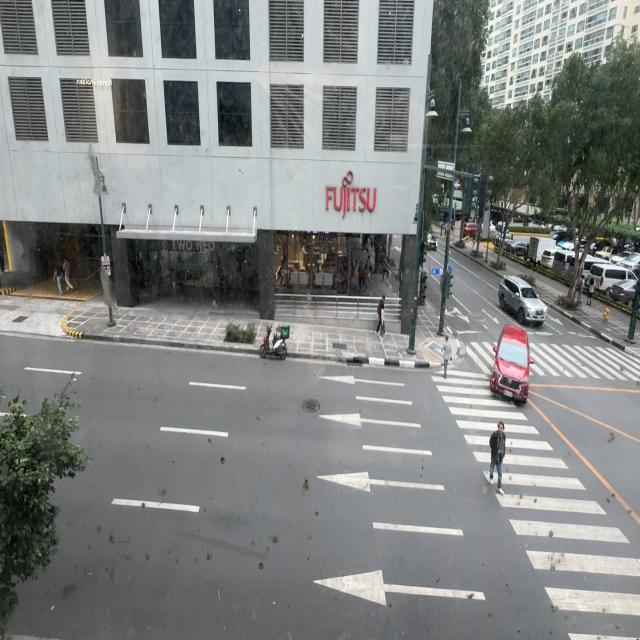crossing: (488, 423, 506, 494), (442, 334, 452, 378)
pedestrain: (374, 294, 388, 340), (62, 256, 74, 292), (53, 262, 64, 296), (587, 274, 595, 305), (576, 275, 583, 306)
